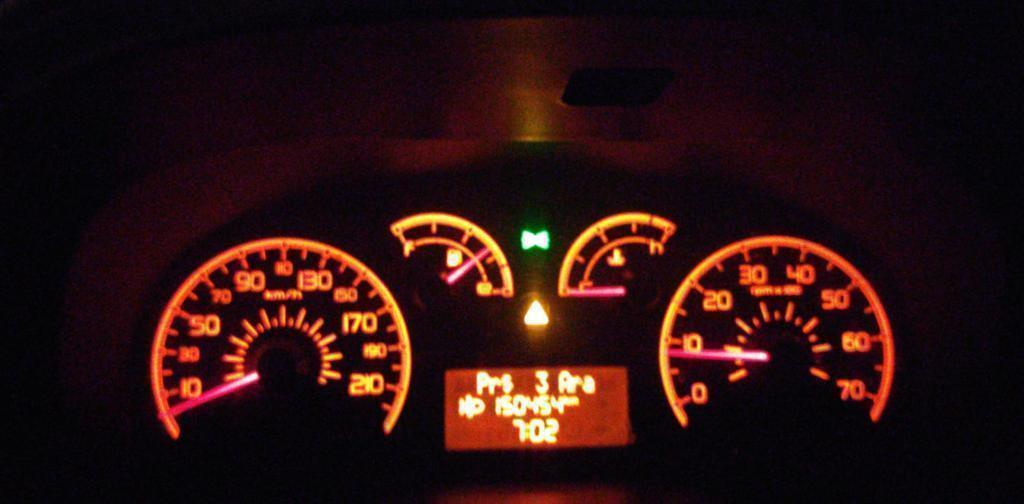0: (528, 418, 544, 443), (512, 393, 526, 416)
1: (457, 396, 465, 416), (494, 396, 501, 415)
2: (544, 417, 560, 444)
3: (533, 368, 549, 394)
4: (550, 394, 564, 415), (525, 394, 538, 415)
5: (538, 394, 550, 416), (501, 394, 512, 416)
7: (510, 417, 524, 441)
X: (557, 368, 571, 394), (475, 370, 488, 395), (582, 373, 596, 394), (501, 372, 514, 393), (489, 375, 501, 394), (571, 373, 582, 393), (570, 395, 580, 405), (524, 422, 529, 440), (563, 395, 570, 405)
odometer: (440, 362, 634, 452)
